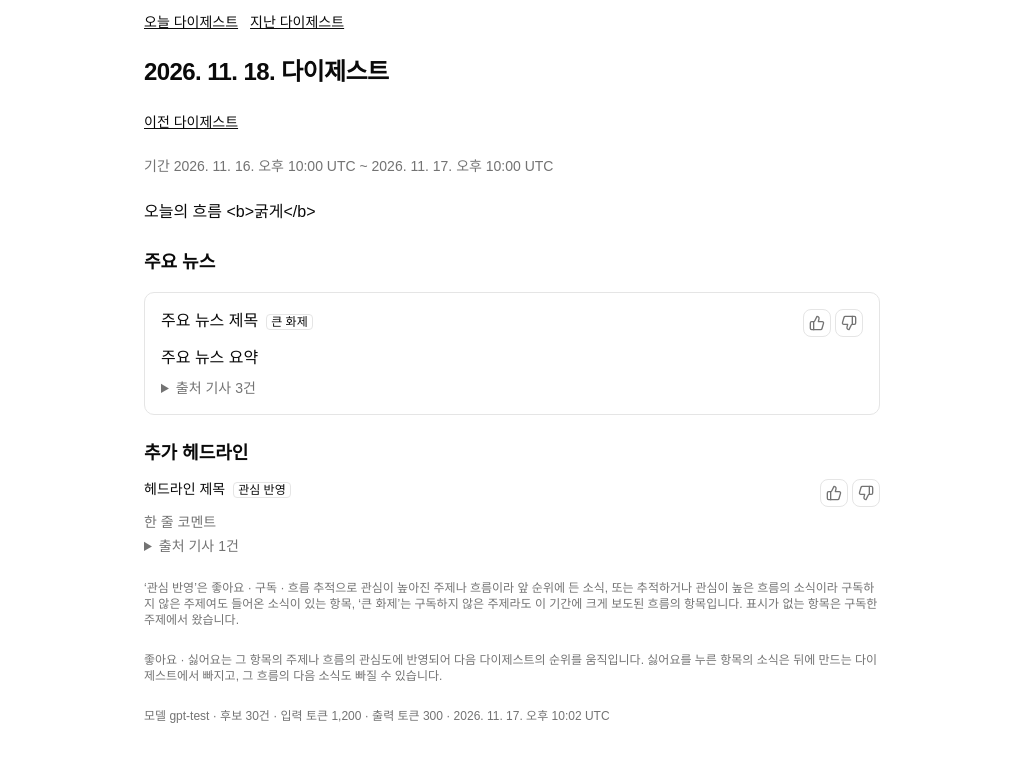
Test case: 다이제스트 화면의 좋아요 · 싫어요 › 요청 제한에 걸리면 이 계정의 요청 제한 안내를 남은 시간과 함께 그 항목에 보인다
This screenshot has width=1024, height=780.
Click the button named "좋아요" in the row of "주요 뉴스 제목".
click(817, 323)  # box [803,309,831,337]
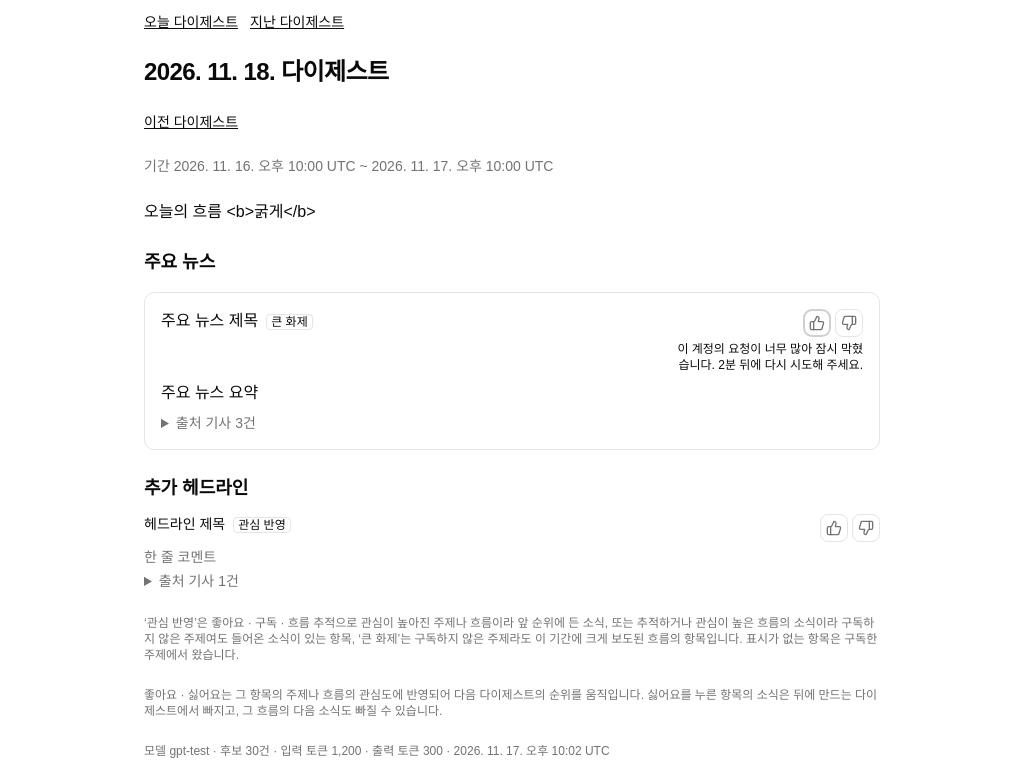
Result: the message reads "이 계정의 요청이 너무 많아 잠시 막혔습니다. 2분 뒤에 다시 시도해 주세요." at [677,342,863,372]
